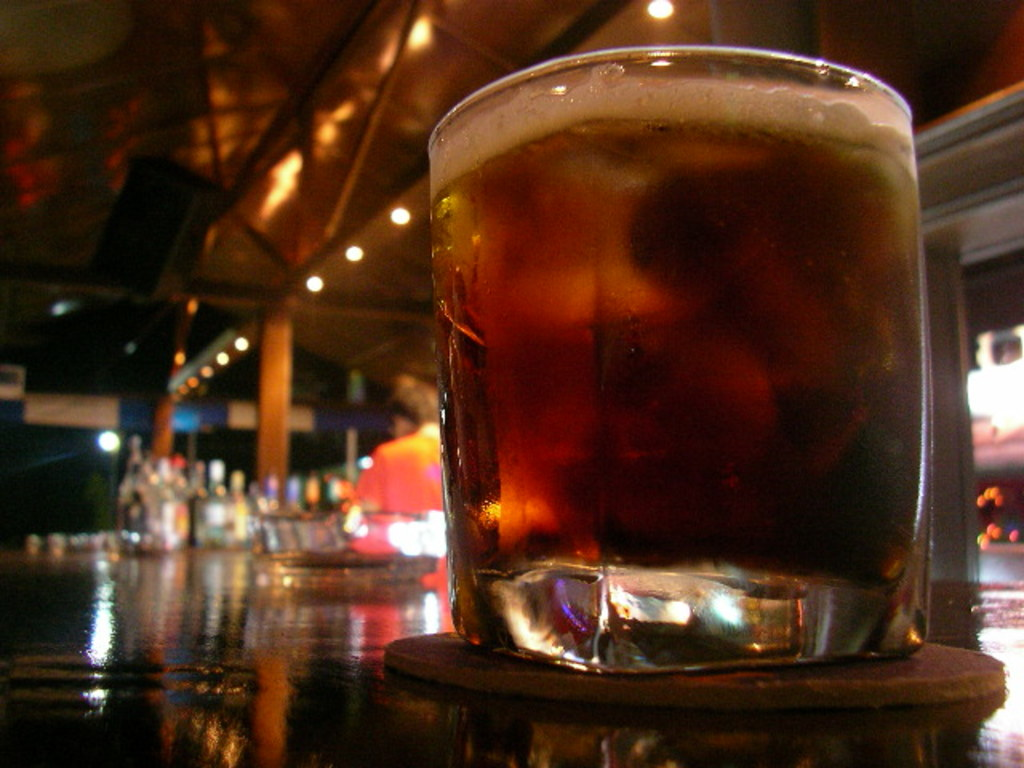Beer: (427, 38, 948, 687), (115, 433, 361, 566)
